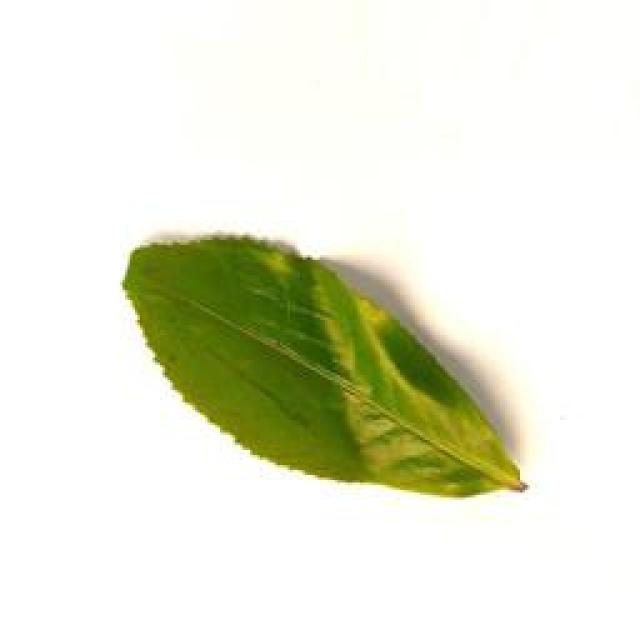Healthy: (97, 224, 539, 522)
